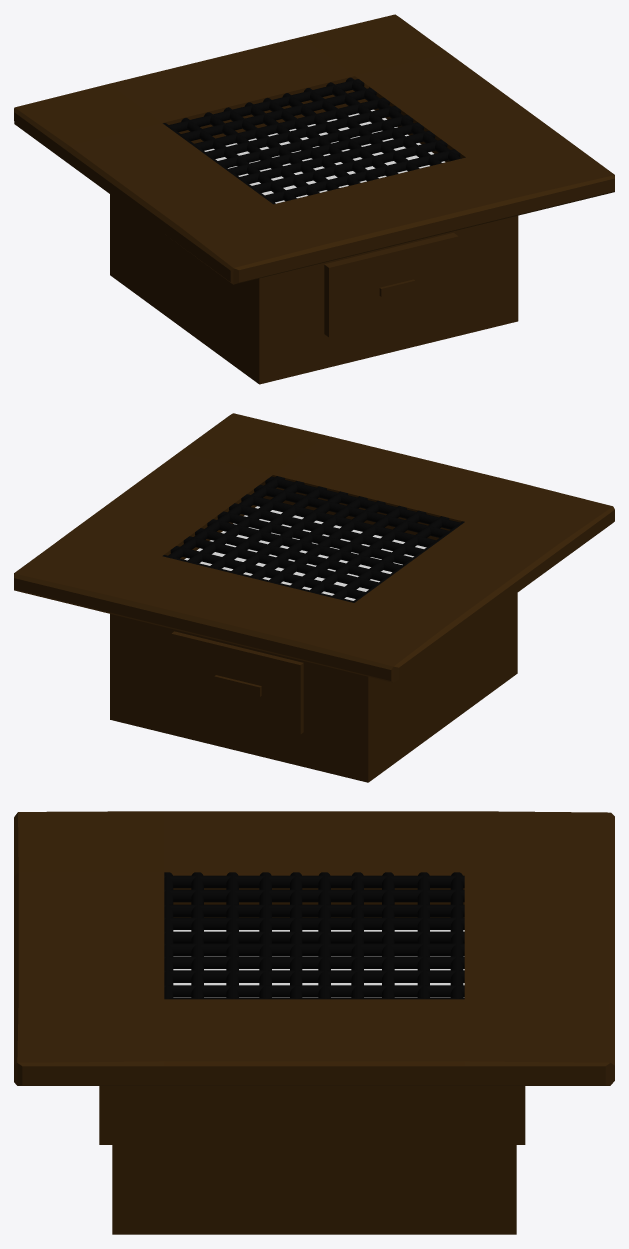
File: Table And Chair.fbx
3 renders of one model, top to bottom at view 1: azimuth 30°, elevation 25°; view 2: azimuth 150°, elevation 25°; view 3: azimuth 270°, elevation 25°, orthographic. The views are drawn at different scales.
Parts seen in each view (by area): view 1: Cube, Plane, Cylinder.005, Cylinder.009, Cylinder.003, Cylinder.002, Cylinder.001, Cylinder.008, Cylinder.006, Cylinder.007, Cylinder.004, Cylinder.019 (+8 smaller); view 2: Cube, Plane, Cylinder.005, Cylinder.010, Cylinder.002, Cylinder.006, Cylinder.008, Cylinder.003, Cylinder.007, Cylinder.009, Cylinder.004, Cylinder.014 (+8 smaller); view 3: Cube, Cylinder.013, Cylinder.014, Cylinder.015, Cylinder.017, Cylinder.018, Cylinder.016, Cylinder.019, Cylinder.020, Cylinder.021, Plane, Cylinder.001 (+10 smaller).
Boxes of the visible parts, <box> form: Cube: <box>14,14,614,384</box>; Plane: <box>204,109,445,203</box>; Cylinder.005: <box>215,114,413,167</box>; Cylinder.009: <box>263,149,460,202</box>; Cylinder.003: <box>192,97,389,150</box>; Cylinder.002: <box>179,88,376,140</box>; Cylinder.001: <box>166,79,364,132</box>; Cylinder.008: <box>249,139,447,192</box>; Cylinder.006: <box>226,122,423,175</box>; Cylinder.007: <box>237,130,435,183</box>; Cylinder.004: <box>203,105,401,158</box>; Cylinder.019: <box>282,93,398,176</box>; Cube: <box>14,413,614,782</box>; Plane: <box>184,506,426,600</box>; Cylinder.005: <box>207,519,404,572</box>; Cylinder.010: <box>265,476,462,529</box>; Cylinder.002: <box>170,546,367,598</box>; Cylinder.006: <box>217,511,414,564</box>; Cylinder.008: <box>241,494,438,547</box>; Cylinder.003: <box>183,536,380,589</box>; Cylinder.007: <box>229,503,426,556</box>; Cylinder.009: <box>254,484,451,537</box>; Cylinder.004: <box>195,528,392,581</box>; Cylinder.014: <box>331,516,449,598</box>; Cube: <box>14,811,614,1234</box>; Cylinder.013: <box>164,875,464,888</box>; Cylinder.014: <box>164,889,464,902</box>; Cylinder.015: <box>164,904,464,917</box>; Cylinder.017: <box>164,931,464,943</box>; Cylinder.018: <box>164,943,464,955</box>; Cylinder.016: <box>164,917,464,929</box>; Cylinder.019: <box>164,956,464,968</box>; Cylinder.020: <box>164,970,464,982</box>; Cylinder.021: <box>164,985,464,997</box>; Plane: <box>173,930,464,997</box>; Cylinder.001: <box>450,872,463,999</box>.
Bounding box in the file's own units: 112 × 43.78 × 112.
